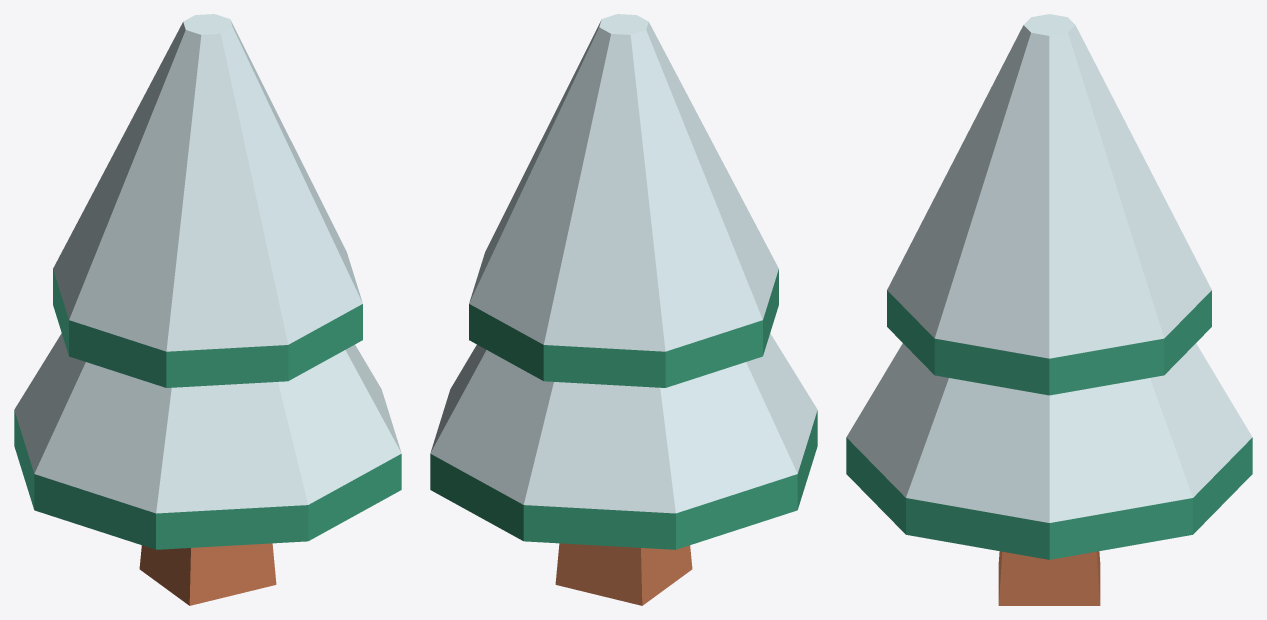
The model's file is d_kenney_sapin_neige.glb.
The picture shows the model from 3 angles, left to right: view 1: azimuth 30°, elevation 25°; view 2: azimuth 150°, elevation 25°; view 3: azimuth 270°, elevation 25°; orthographic projection.
Parts seen in each view (by area): view 1: d_kenney_sapin_neige; view 2: d_kenney_sapin_neige; view 3: d_kenney_sapin_neige.
Boxes of the visible parts, left/top/right/bottom form: d_kenney_sapin_neige: left=14, top=14, right=401, bottom=605; d_kenney_sapin_neige: left=430, top=14, right=817, bottom=605; d_kenney_sapin_neige: left=846, top=14, right=1252, bottom=605.
Size of the model in its own units: 0.35 by 0.532 by 0.35.
Materials: 1 (1 with a texture image).
